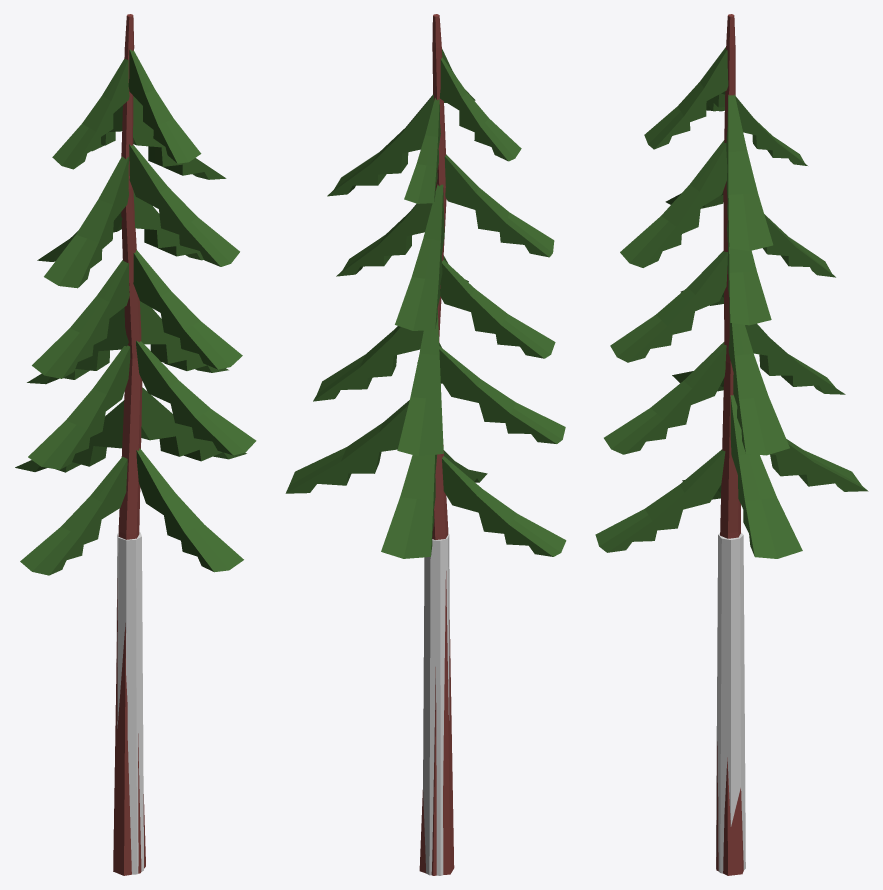
Rendered from floresta_tree_pine_large.glb.
3 renders of one model, left to right at view 1: azimuth 30°, elevation 25°; view 2: azimuth 150°, elevation 25°; view 3: azimuth 270°, elevation 25°, orthographic.
Visible parts, largest first — view 1: Pine big f, Colisao; view 2: Pine big f, Colisao; view 3: Pine big f, Colisao.
Boxes of the visible parts, x1,y1,x2,y2 form: Pine big f: [15, 14, 256, 875]; Colisao: [116, 532, 143, 874]; Pine big f: [285, 14, 566, 875]; Colisao: [423, 534, 449, 875]; Pine big f: [595, 14, 868, 875]; Colisao: [716, 532, 745, 873].
Size of the model in its own units: 7.39 by 24.82 by 7.2.
